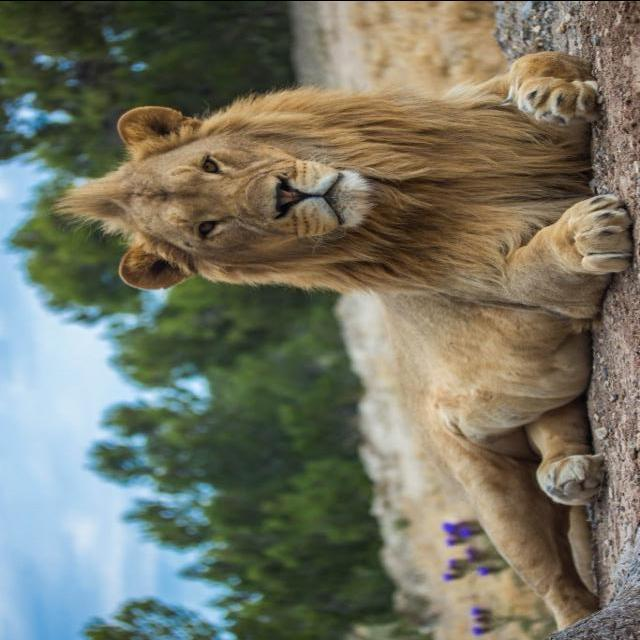lions: (0, 34, 640, 640)
